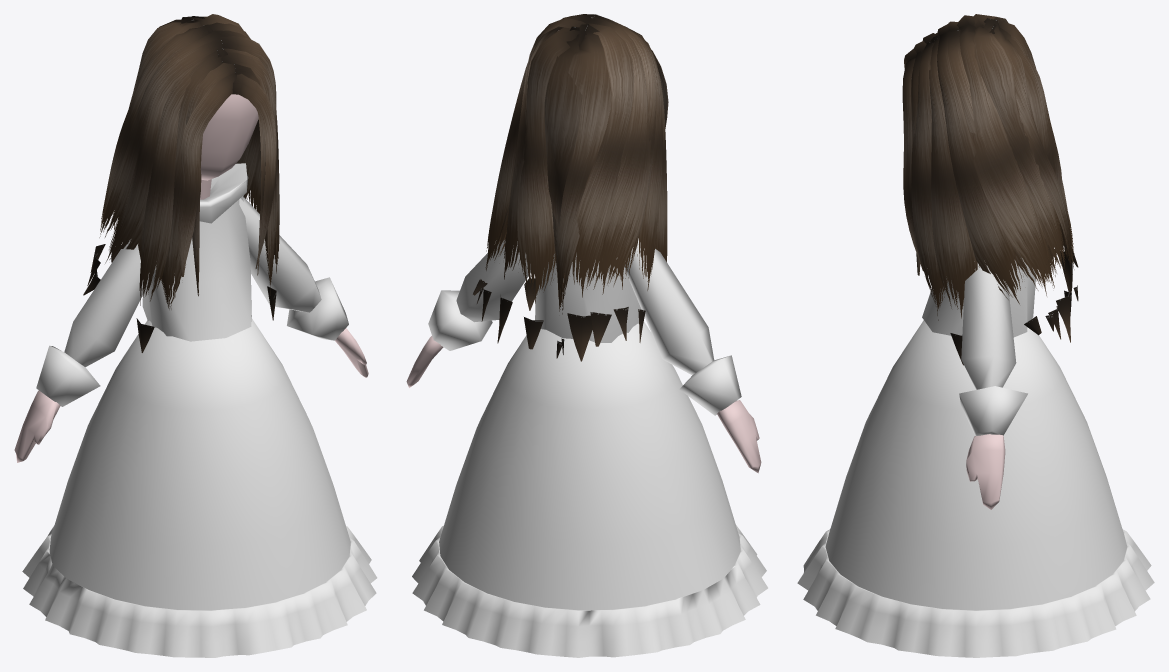
The model's file is fantasma_nena_lowpoly_version_peloterminado.fbx.
3 views of the same model, side by side, from view 1: azimuth 30°, elevation 25°; view 2: azimuth 150°, elevation 25°; view 3: azimuth 270°, elevation 25° (orthographic).
Parts seen in each view (by area): view 1: pollera, brazos, cuepo, Plane.006, Plane.010, Plane.003, cara, Plane.012, Plane.007, Plane.014, Plane.002, brazos.001 (+8 smaller); view 2: pollera, brazos, Plane.015, Plane.017, Plane.018, Plane.014, cuepo, Plane.019, Plane.016, Plane.010, Plane.013, Plane.012 (+3 smaller); view 3: pollera, brazos, Plane.013, Plane.009, Plane.008, Plane.016, Plane.005, Plane.017, cuepo, brazos.002, Plane.019, Plane.011 (+4 smaller).
Part boxes in pixels (x1,y1,x2,y2): pollera: (22, 318, 377, 657); brazos: (36, 197, 348, 406); cuepo: (142, 163, 251, 341); Plane.006: (136, 47, 227, 352); Plane.010: (83, 39, 223, 295); Plane.003: (178, 73, 236, 276); cara: (200, 94, 258, 180); Plane.012: (87, 30, 221, 285); Plane.007: (161, 55, 222, 309); Plane.014: (90, 25, 213, 272); Plane.002: (232, 73, 276, 268); brazos.001: (14, 390, 60, 462); pollera: (412, 321, 767, 657); brazos: (428, 238, 741, 415); Plane.015: (567, 23, 634, 361); Plane.017: (517, 24, 588, 349); Plane.018: (552, 25, 611, 354); Plane.014: (588, 18, 650, 346); cuepo: (535, 253, 641, 342); Plane.019: (544, 26, 582, 358); Plane.016: (497, 17, 585, 343); Plane.010: (626, 27, 662, 342); Plane.013: (481, 15, 591, 321); Plane.012: (590, 14, 655, 340); pollera: (797, 320, 1154, 657); brazos: (959, 261, 1027, 435); Plane.013: (959, 24, 1060, 339); Plane.009: (937, 32, 1041, 335); Plane.008: (929, 35, 979, 365); Plane.016: (972, 24, 1070, 342); Plane.005: (911, 41, 947, 320); Plane.017: (984, 18, 1071, 315); cuepo: (922, 258, 1036, 337); brazos.002: (966, 434, 1005, 509); Plane.019: (989, 24, 1062, 318); Plane.011: (948, 30, 1053, 331).
Size of the model in its own units: 187 by 291 by 167.
3 materials, 1 textured.
